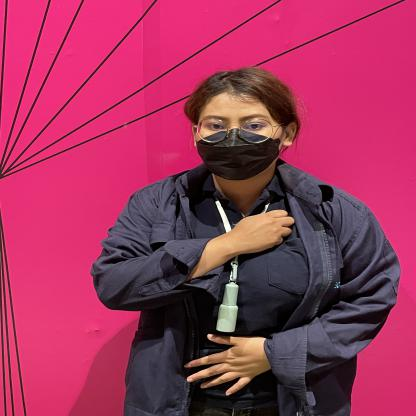Sadness: (96, 179, 304, 300)
